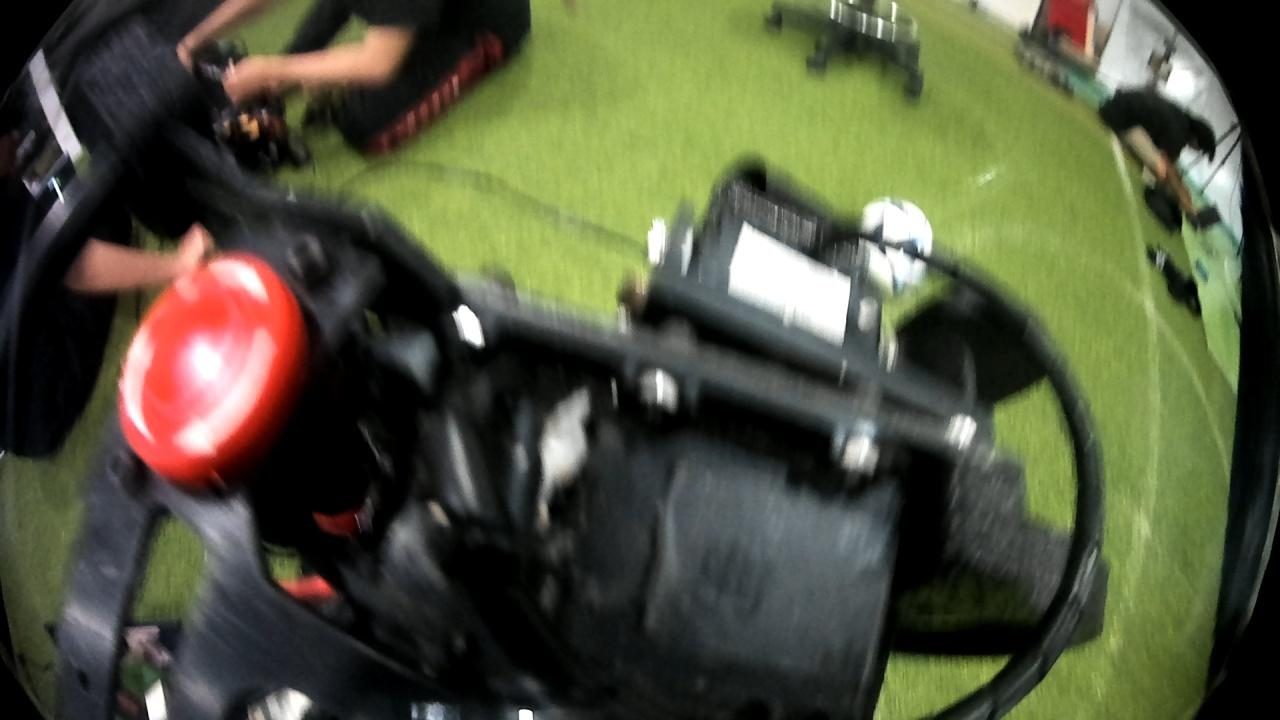ball: (851, 192, 938, 277)
